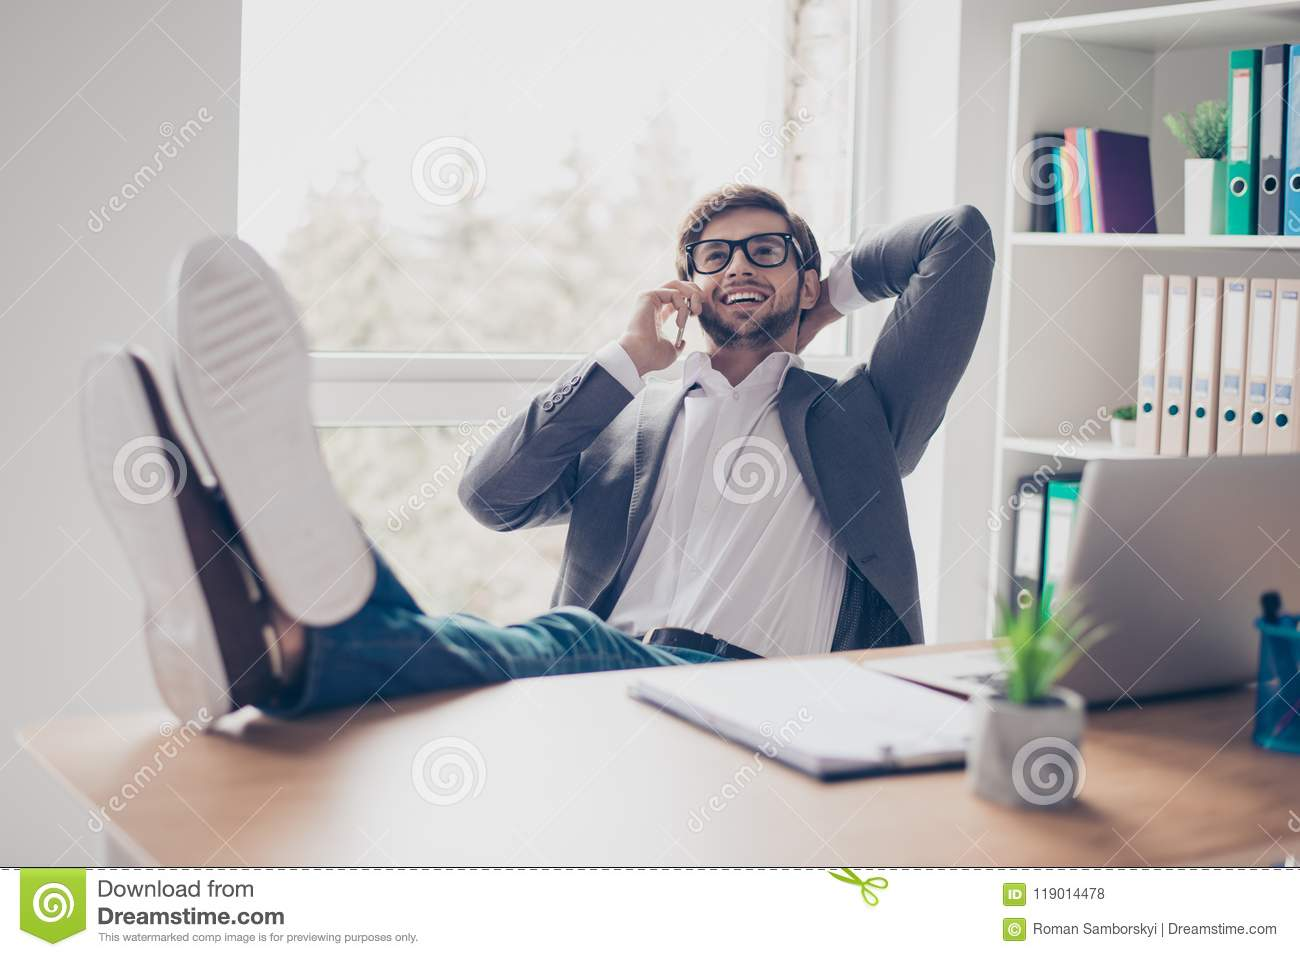phone: (669, 276, 697, 357)
talk: (633, 227, 798, 361)
